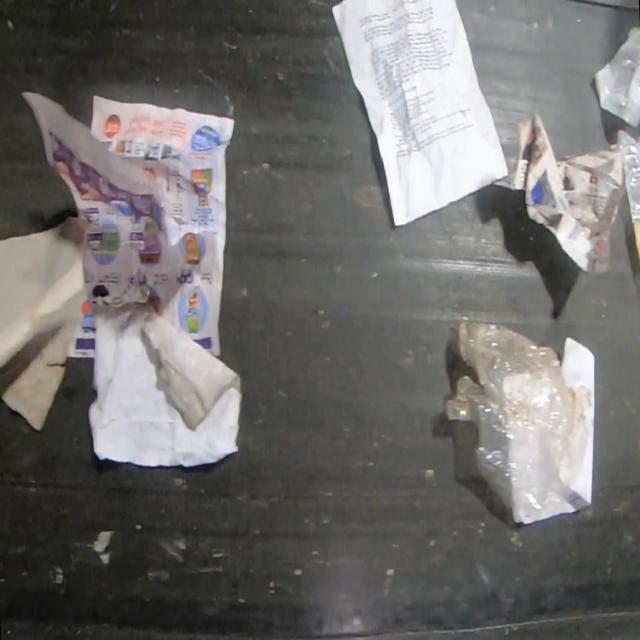rigid_plastic: (617, 125, 640, 222)
soft_plastic: (446, 314, 594, 514)
